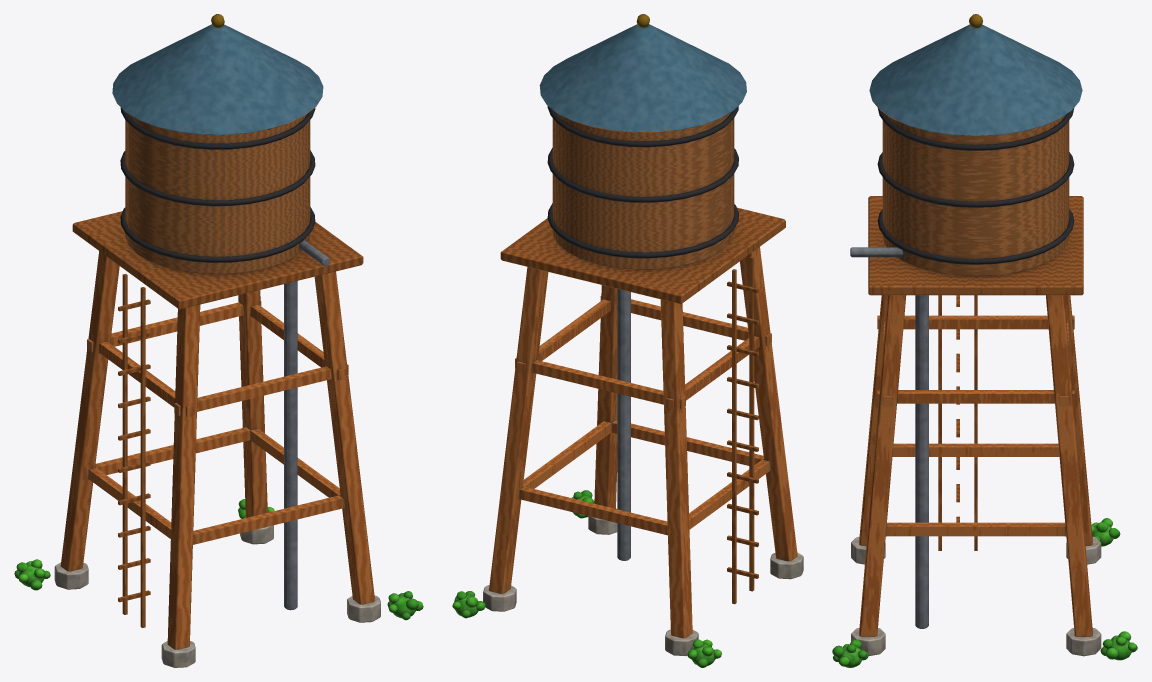
Rendered from water_tower.glb.
3 renders of one model, left to right at view 1: azimuth 30°, elevation 25°; view 2: azimuth 150°, elevation 25°; view 3: azimuth 270°, elevation 25°, orthographic. The views are drawn at different scales.
Parts seen in each view (by area): view 1: water_tower; view 2: water_tower; view 3: water_tower.
Part boxes in pixels (x1=…): water_tower: x1=14, y1=14, x2=423, y2=667; water_tower: x1=452, y1=14, x2=803, y2=667; water_tower: x1=832, y1=14, x2=1137, y2=667.
Bounding box in the file's own units: 1.81 × 3.63 × 1.7.
1 material, 1 textured.
